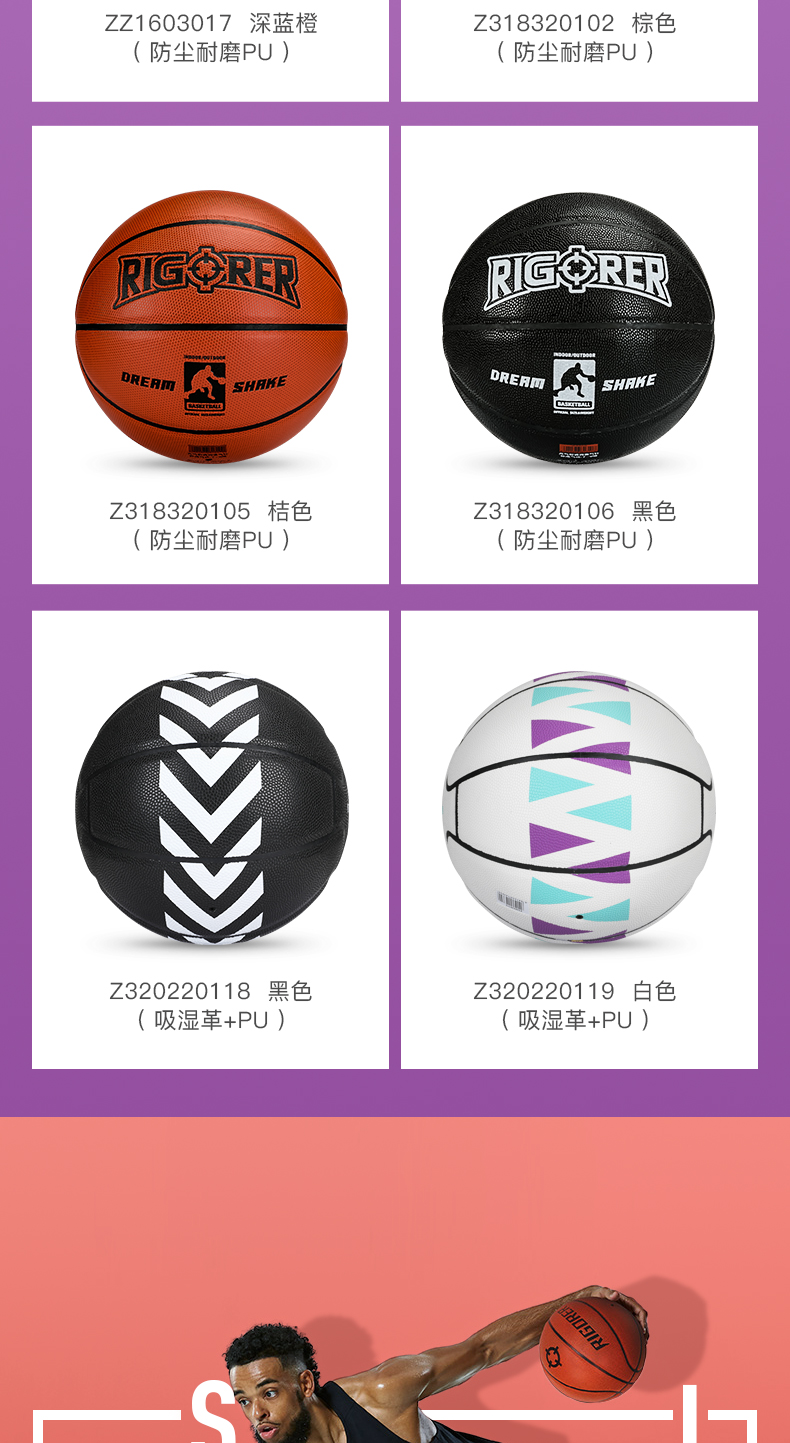ball: (438, 669, 721, 950), (71, 188, 350, 469), (438, 190, 721, 467), (75, 669, 352, 950), (538, 1296, 648, 1402)
